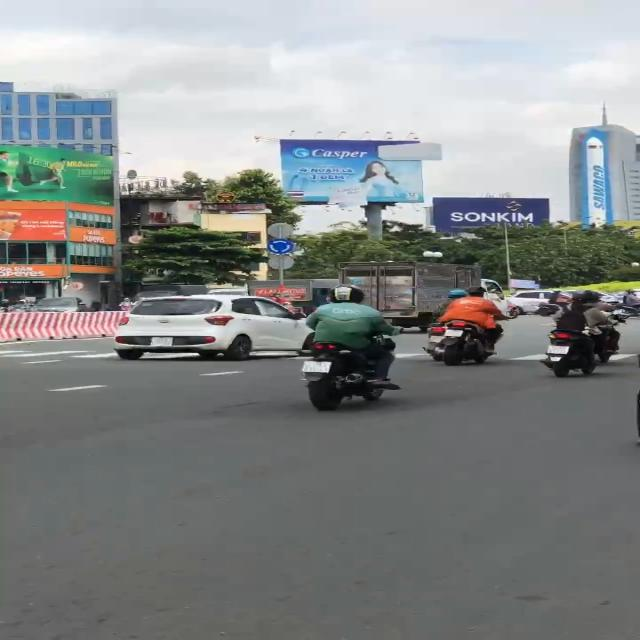Bien bao noi giao nhau chay theo vong xuyen: (263, 237, 298, 255)
